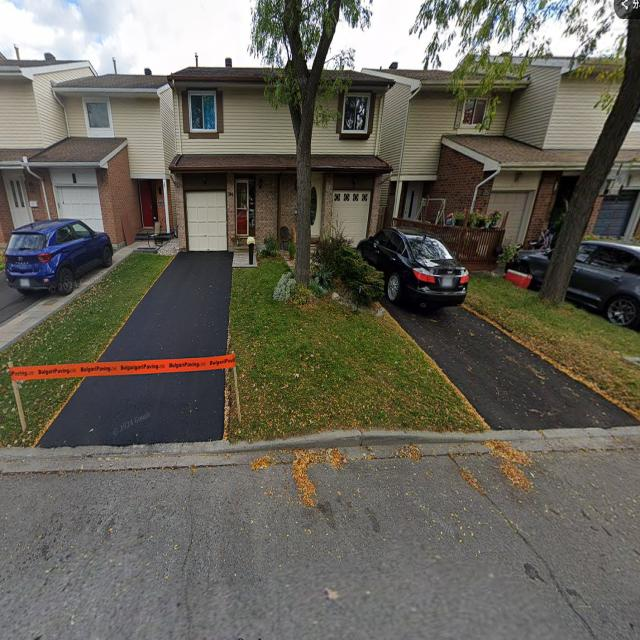Door: (234, 180, 255, 248)
curb: (2, 423, 640, 464)
obstacle: (283, 1, 341, 292), (359, 226, 469, 307)
walkways: (36, 250, 235, 445)
